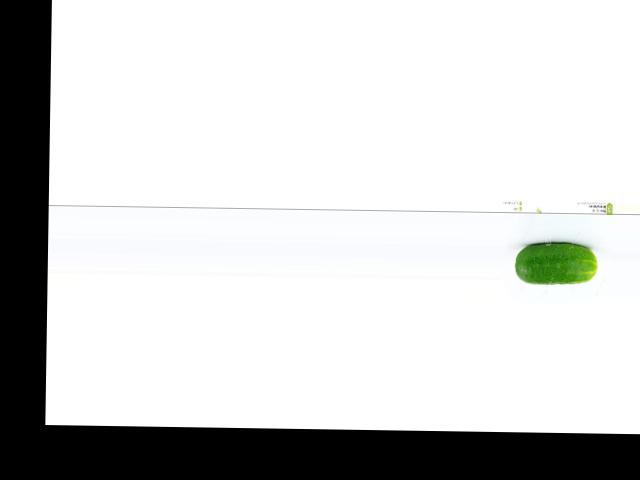cucumber: (514, 241, 597, 284)
